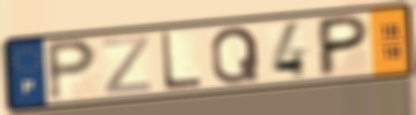4: (265, 20, 313, 81)
L: (158, 29, 204, 94)
P: (315, 13, 372, 80), (44, 37, 101, 104)
Q: (209, 24, 263, 87)
Z: (100, 33, 153, 96)
